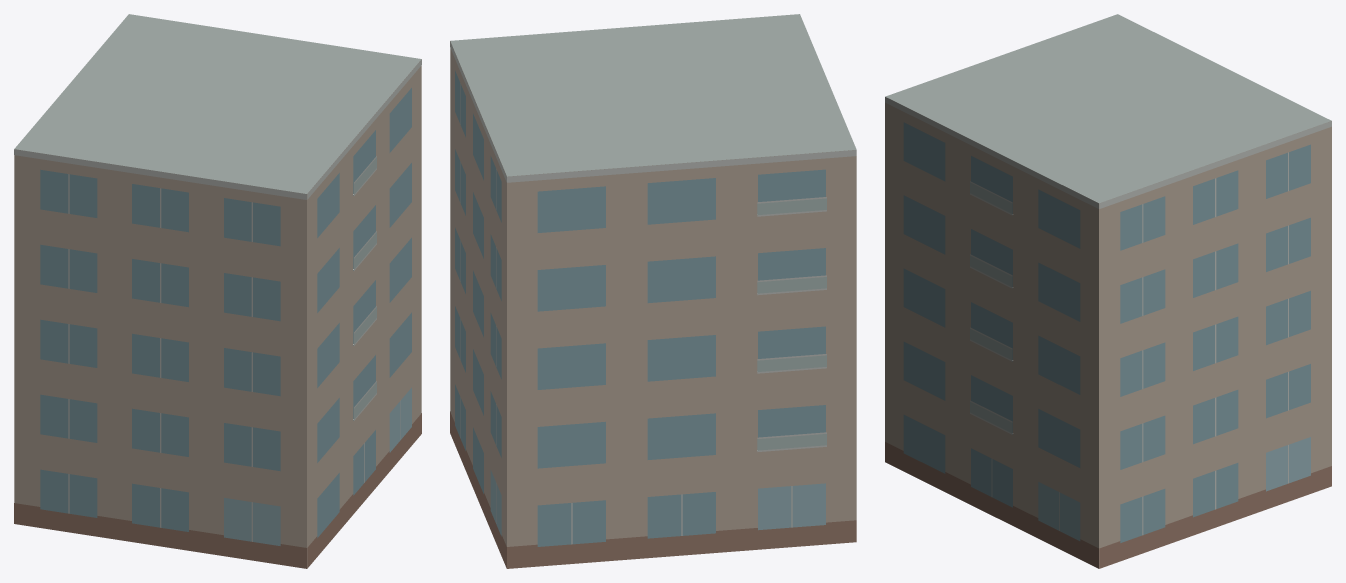
Rendered from survey-upis-33023207.glb.
3 renders of one model, left to right at view 1: azimuth 30°, elevation 25°; view 2: azimuth 150°, elevation 25°; view 3: azimuth 270°, elevation 25°, orthographic. The views are drawn at different scales.
Parts seen in each view (by area): view 1: survey-upis-33023207.tmp; view 2: survey-upis-33023207.tmp; view 3: survey-upis-33023207.tmp.
Boxes of the visible parts, x1,y1,x2,y2 form: survey-upis-33023207.tmp: (14,14,421,568); survey-upis-33023207.tmp: (450,14,856,568); survey-upis-33023207.tmp: (885,14,1331,568).
Bounding box in the file's own units: 16.96 × 15.25 × 16.9.
